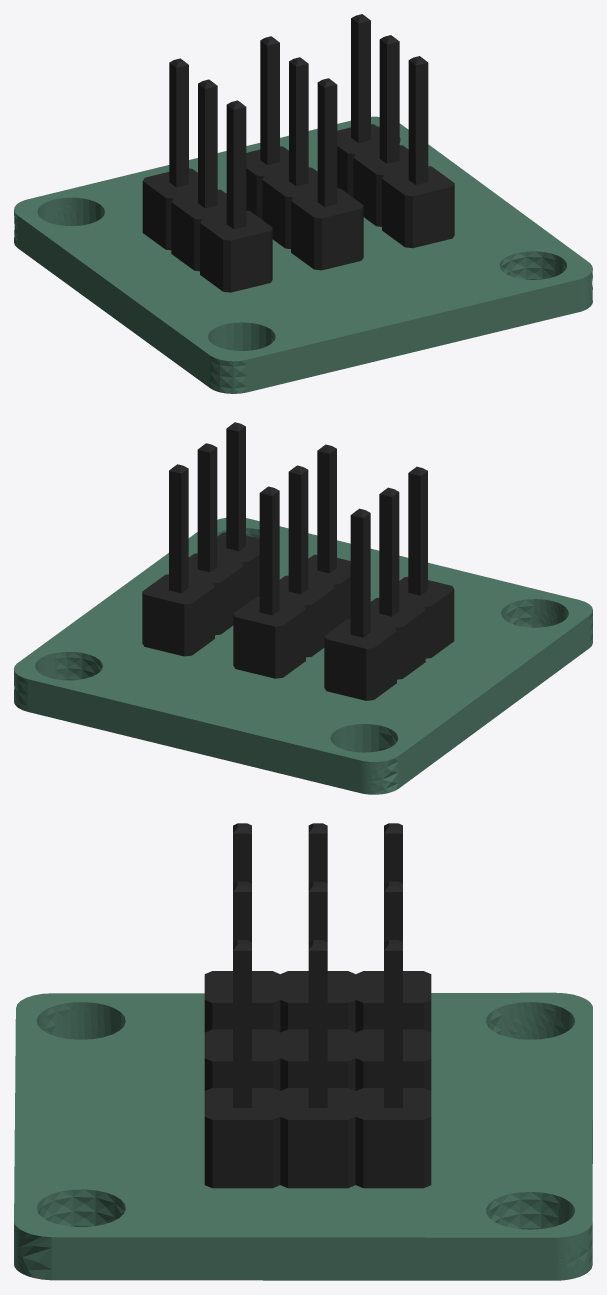
File: Receptacle_A2-protorack-A-empty 004.dae
The picture shows the model from 3 angles, top to bottom: view 1: azimuth 30°, elevation 25°; view 2: azimuth 150°, elevation 25°; view 3: azimuth 270°, elevation 25°; orthographic projection. The views are drawn at different scales.
Visible parts, largest first — view 1: node0, node3, node2, node1; view 2: node0, node3, node1, node2; view 3: node0, node2, node1, node3.
Part boxes in pixels (x1=…): node0: x1=14, y1=116, x2=592, y2=393; node3: x1=142, y1=58, x2=272, y2=292; node2: x1=337, y1=14, x2=454, y2=248; node1: x1=246, y1=36, x2=363, y2=270; node0: x1=14, y1=518, x2=592, y2=794; node3: x1=324, y1=466, x2=454, y2=700; node1: x1=233, y1=444, x2=350, y2=678; node2: x1=142, y1=422, x2=259, y2=656; node0: x1=14, y1=992, x2=592, y2=1280; node2: x1=204, y1=940, x2=431, y2=1188; node1: x1=204, y1=881, x2=431, y2=1090; node3: x1=204, y1=823, x2=431, y2=1032.
Bounding box in the file's own units: 0.0195 × 0.0195 × 0.0115.
